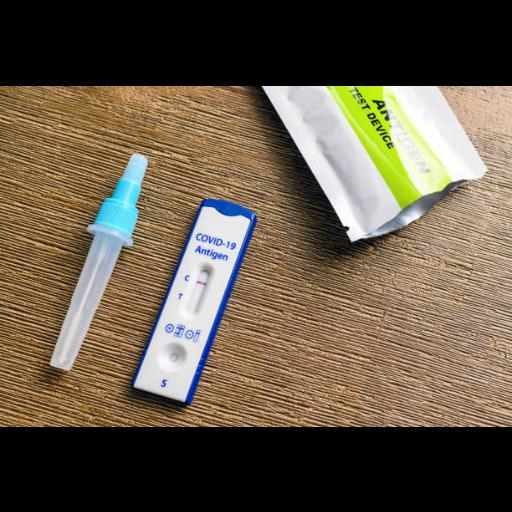Neg: (131, 194, 256, 402)
